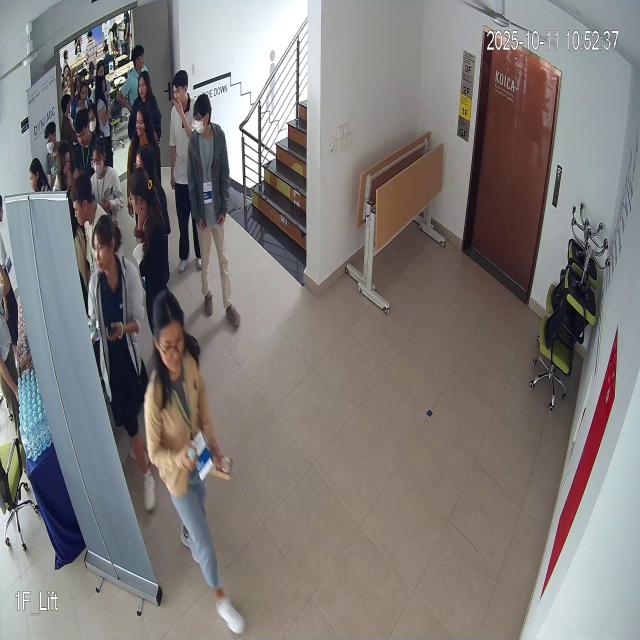face: (88, 212, 126, 276)
